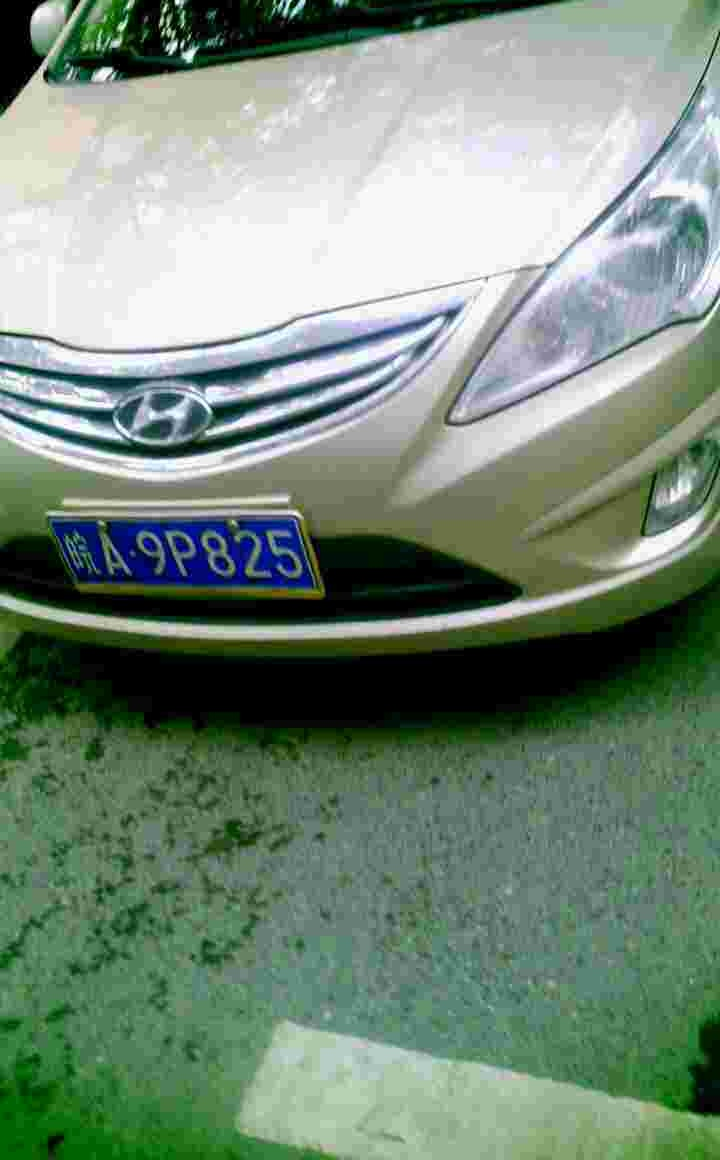plate: (70, 514, 300, 592)
